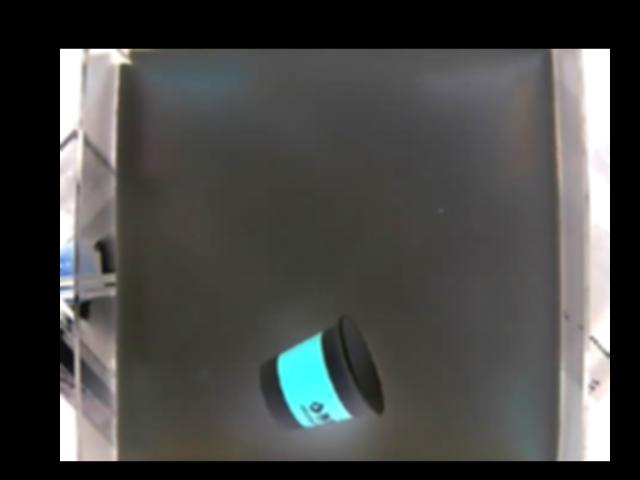Cup: (264, 316, 385, 430)
